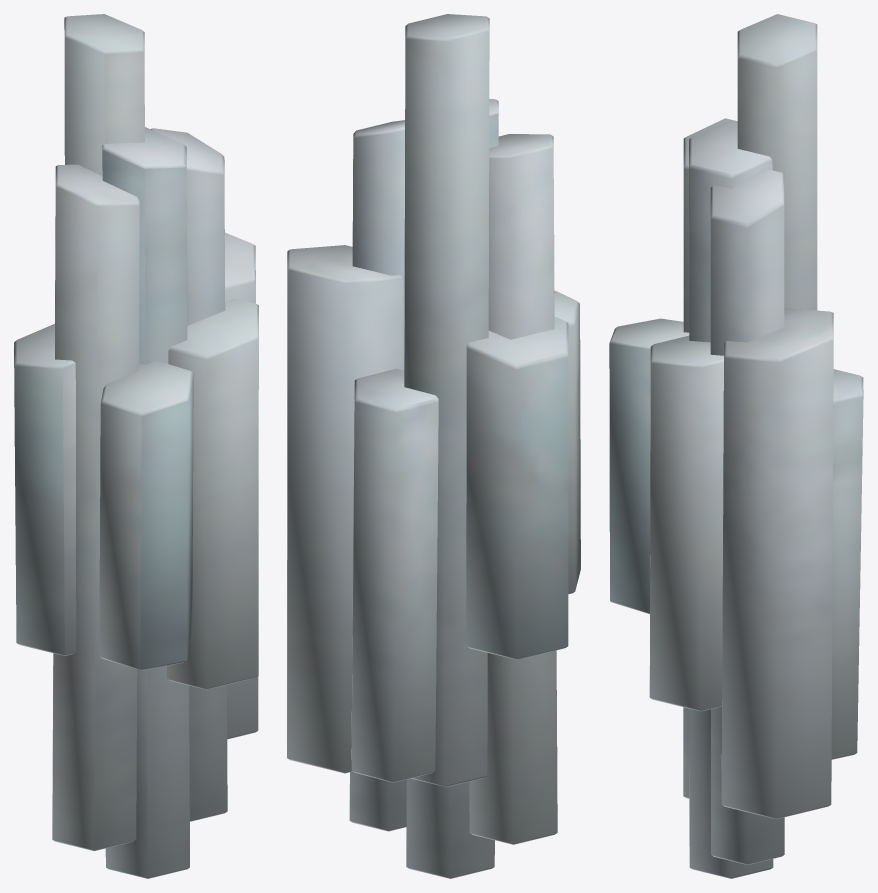
The model's file is P_RockHexic_Spire01.obj.
The picture shows the model from 3 angles, left to right: view 1: azimuth 30°, elevation 25°; view 2: azimuth 150°, elevation 25°; view 3: azimuth 270°, elevation 25°; orthographic projection. The views are drawn at different scales.
Size of the model in its own units: 12.09 by 37.09 by 10.44.
